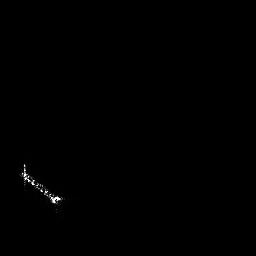ship: (19, 161, 65, 215)
